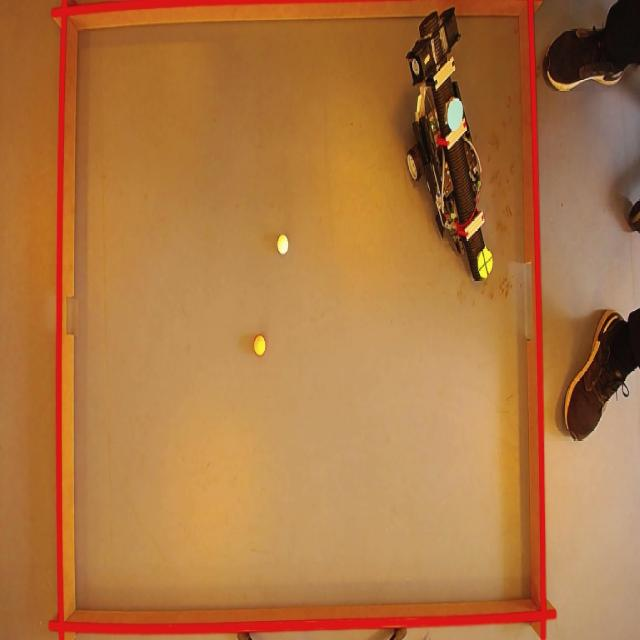orange: (254, 335, 267, 356)
robot: (404, 5, 494, 290)
robot-front: (478, 247, 494, 282)
robot-rear: (446, 97, 464, 132)
white: (275, 233, 289, 254)
